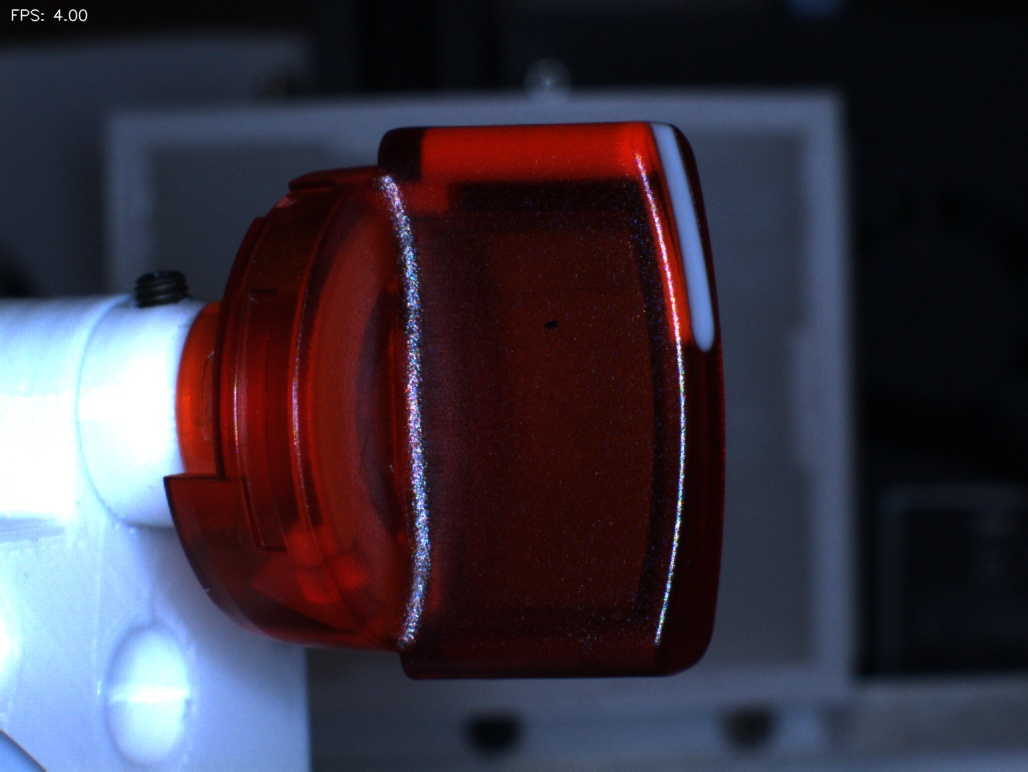PointNoir: (514, 288, 592, 359)
